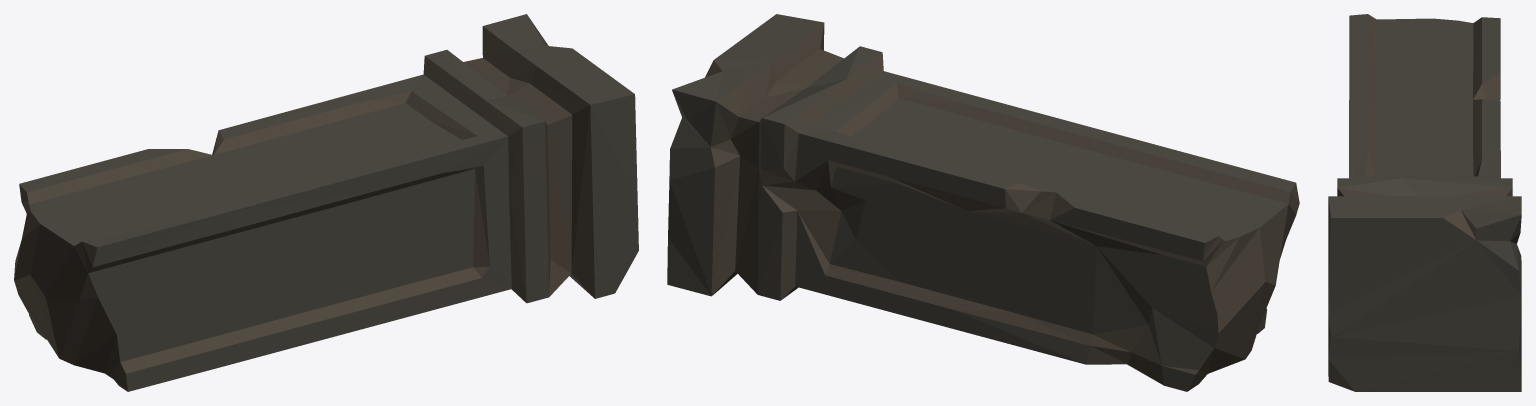
The model's file is source.gltf.
The picture shows the model from 3 angles, left to right: view 1: azimuth 30°, elevation 25°; view 2: azimuth 150°, elevation 25°; view 3: azimuth 270°, elevation 25°; orthographic projection. The views are drawn at different scales.
Parts seen in each view (by area): view 1: SM_Prop_Pillar_Broken_01; view 2: SM_Prop_Pillar_Broken_01; view 3: SM_Prop_Pillar_Broken_01.
Part boxes in pixels (<box>): SM_Prop_Pillar_Broken_01: <box>14,14,638,391</box>; SM_Prop_Pillar_Broken_01: <box>667,14,1299,391</box>; SM_Prop_Pillar_Broken_01: <box>1328,14,1521,391</box>.
Bounding box in the file's own units: 1.5 × 0.5127 × 0.5103.
Materials: 1 (1 with a texture image).
